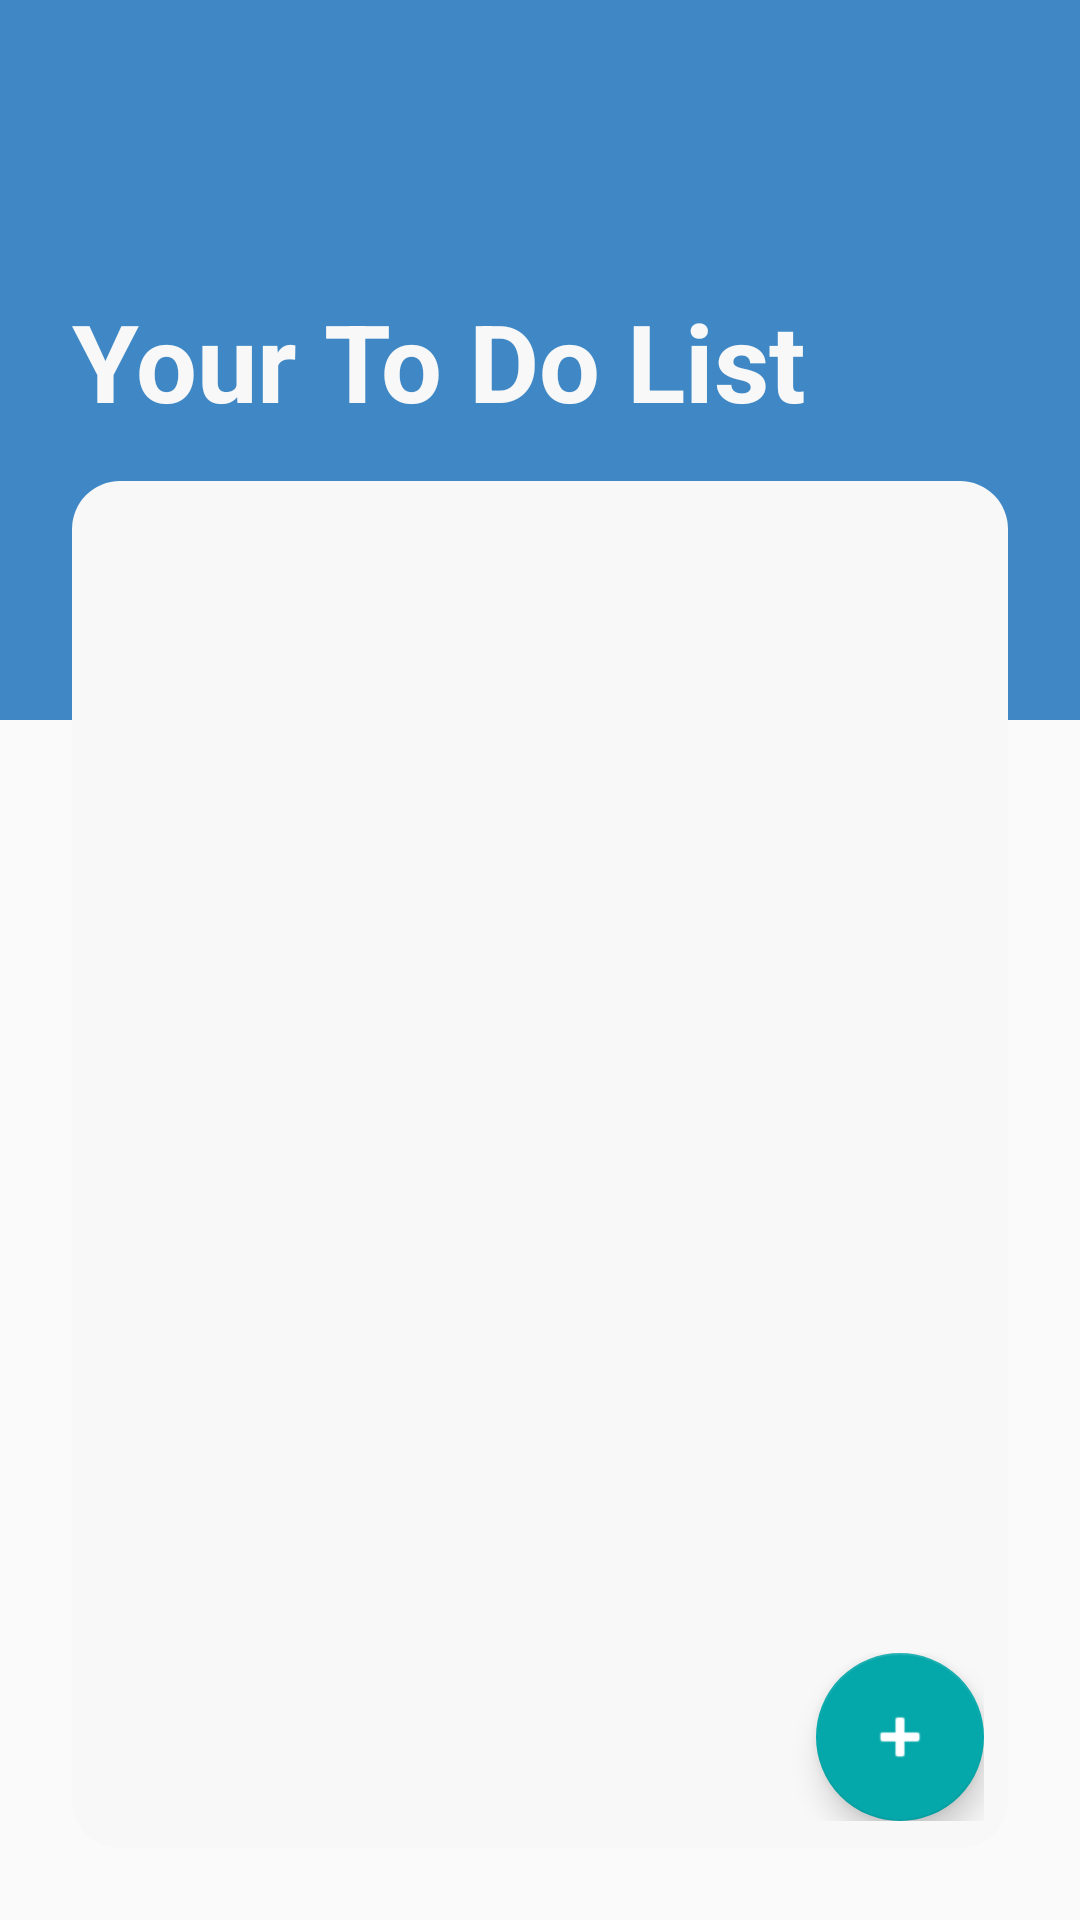

Icon click points for this 1080 x 1920 phone screenshot, format [x,y]:
add: [900,1737]
